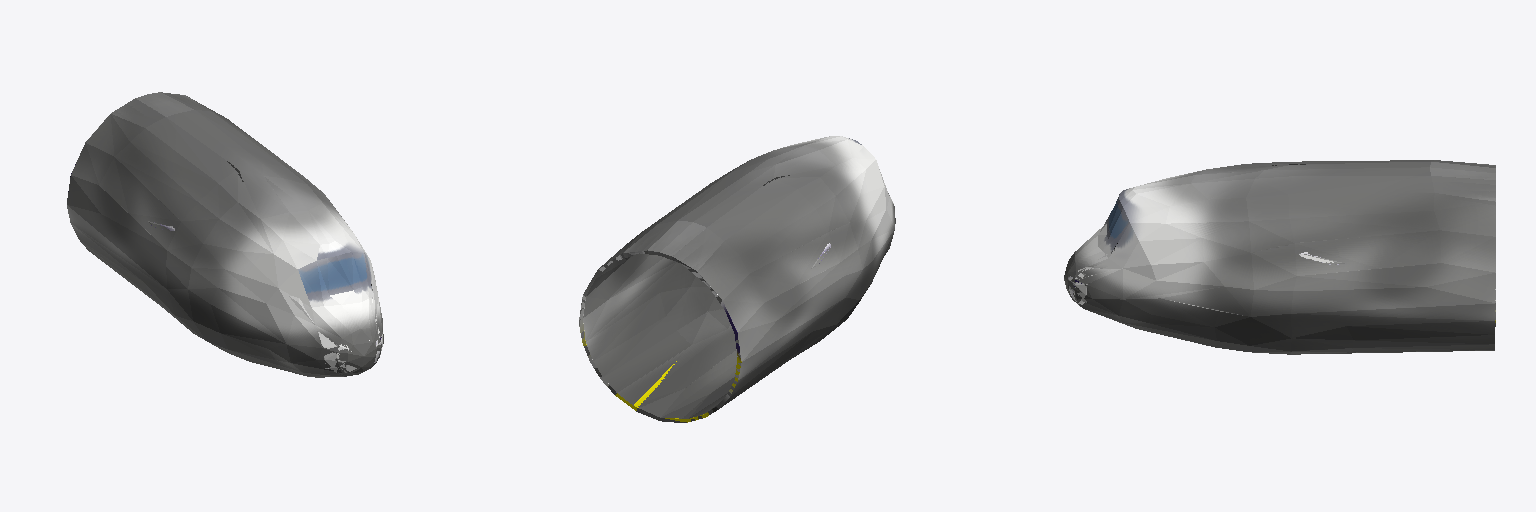
3 views of the same model, side by side, from view 1: azimuth 30°, elevation 25°; view 2: azimuth 150°, elevation 25°; view 3: azimuth 270°, elevation 25° (orthographic).
Visible parts, largest first — view 1: Front_LowPoly_Circle.002; view 2: Front_LowPoly_Circle.002; view 3: Front_LowPoly_Circle.002.
Part boxes in pixels (left/top/right/bottom): Front_LowPoly_Circle.002: left=67, top=92, right=383, bottom=377; Front_LowPoly_Circle.002: left=579, top=136, right=895, bottom=422; Front_LowPoly_Circle.002: left=1064, top=160, right=1495, bottom=354.
Size of the model in its own units: 0.4901 by 0.4984 by 1.1.
Materials: 1 (1 with a texture image).